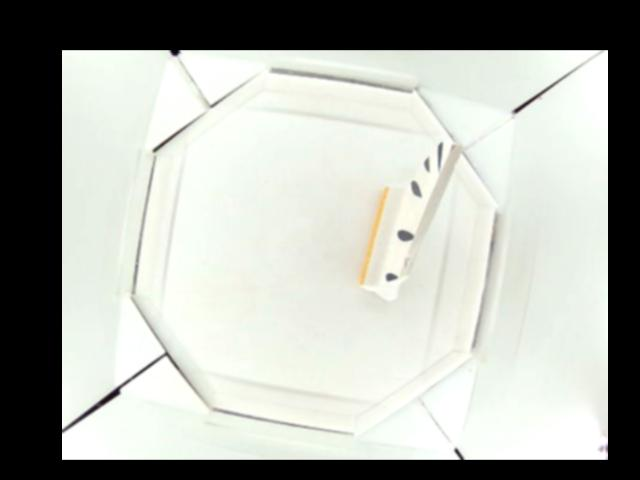China: (359, 141, 463, 301)
